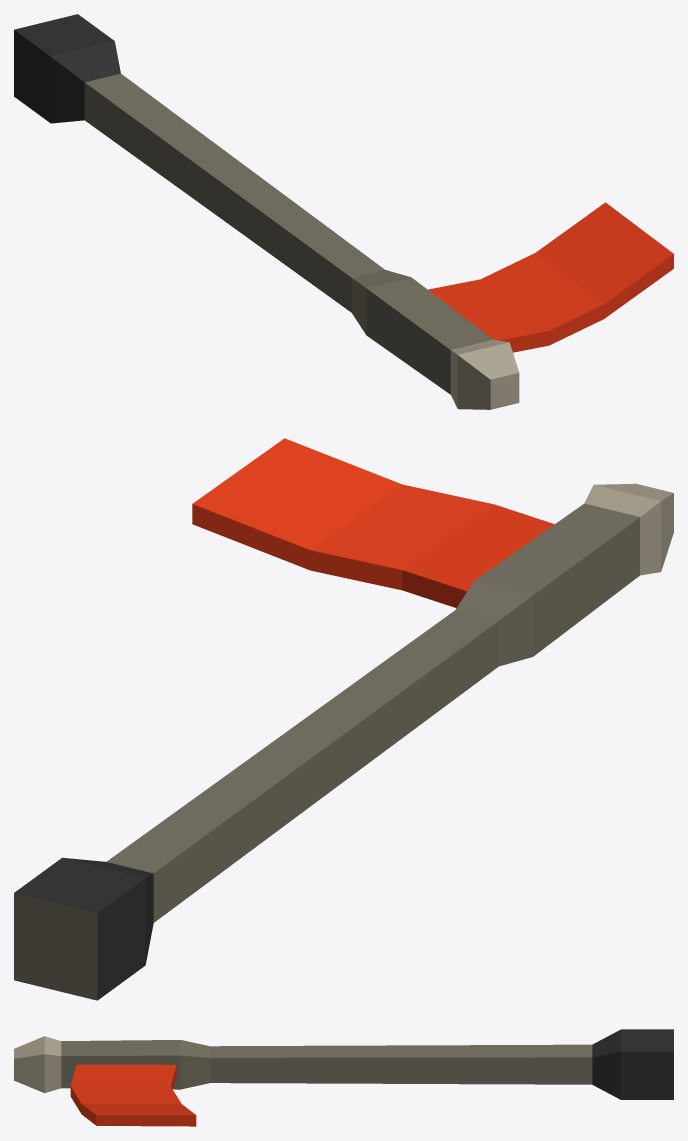
File: flag_taked.glb
3 views of the same model, one above another, from view 1: azimuth 30°, elevation 25°; view 2: azimuth 150°, elevation 25°; view 3: azimuth 270°, elevation 25° (orthographic). The views are drawn at different scales.
Visible parts, largest first — view 1: flag_taked; view 2: flag_taked; view 3: flag_taked.
Part boxes in pixels (<box>): flag_taked: <box>14,14,673,409</box>; flag_taked: <box>14,438,673,1000</box>; flag_taked: <box>14,1029,673,1126</box>.
Bounding box in the file's own units: 0.3032 × 0.0827 × 0.929.
1 material, 1 textured.
